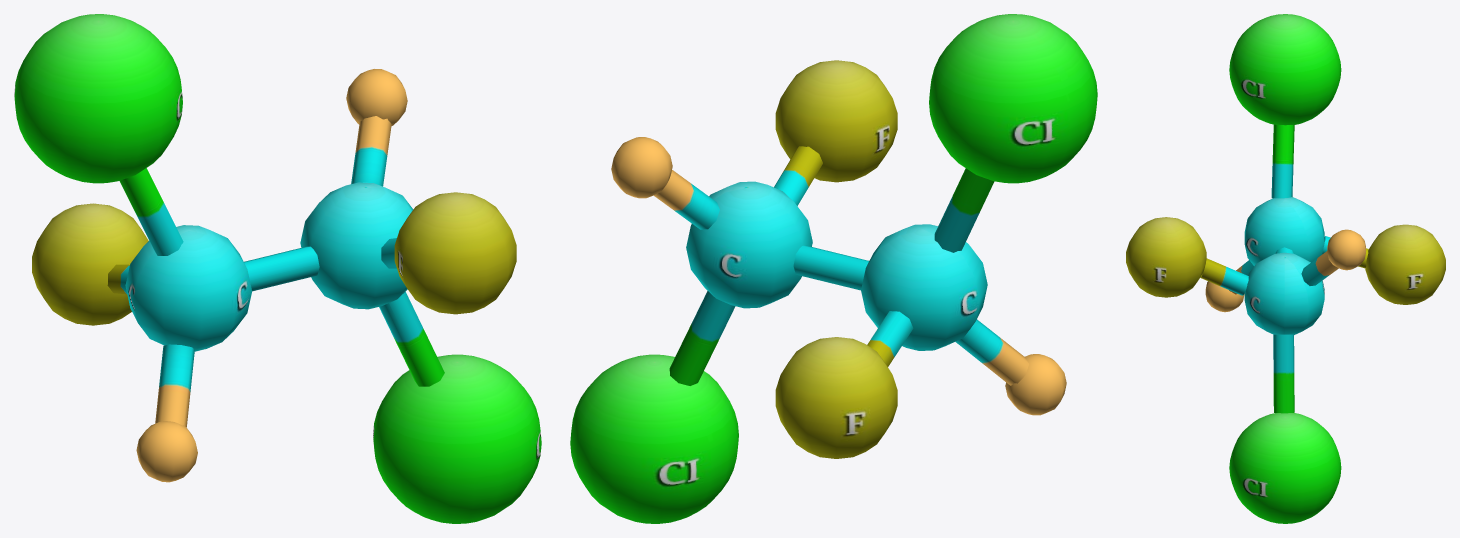
File: S-trans-1-2dichloro1-2-difluoroethane.dae
3 renders of one model, left to right at view 1: azimuth 30°, elevation 25°; view 2: azimuth 150°, elevation 25°; view 3: azimuth 270°, elevation 25°, orthographic. The views are drawn at different scales.
Parts seen in each view (by area): view 1: polySurface79; view 2: polySurface79; view 3: polySurface79.
Boxes of the visible parts, <box> form: polySurface79: <box>14,14,541,523</box>; polySurface79: <box>570,14,1097,523</box>; polySurface79: <box>1126,14,1445,523</box>.
Bounding box in the file's own units: 5.52 × 6.07 × 4.58.
1 material, 1 textured.
